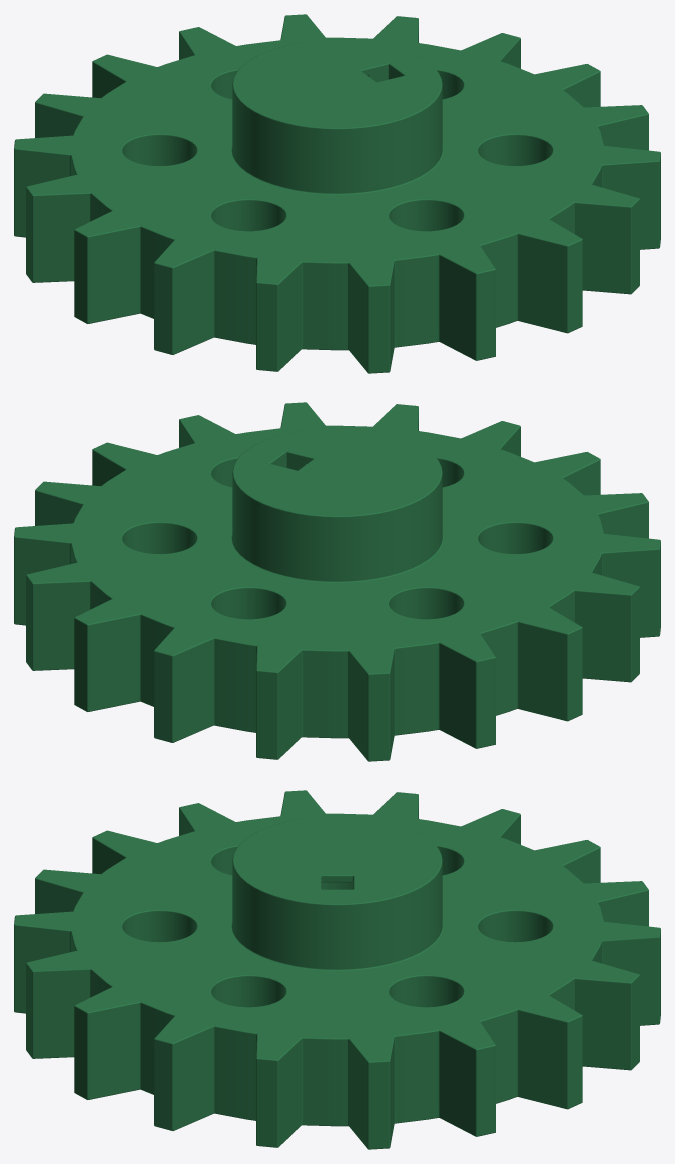
File: gear.glb
3 views of the same model, one above another, from view 1: azimuth 30°, elevation 25°; view 2: azimuth 150°, elevation 25°; view 3: azimuth 270°, elevation 25° (orthographic).
Parts seen in each view (by area): view 1: Gear; view 2: Gear; view 3: Gear.
Boxes of the visible parts, box(x1,y1,x2,y2) form: Gear: box(14, 14, 660, 373); Gear: box(14, 402, 660, 761); Gear: box(14, 790, 660, 1149).
Bounding box in the file's own units: 0.0796 × 0.021 × 0.08.
